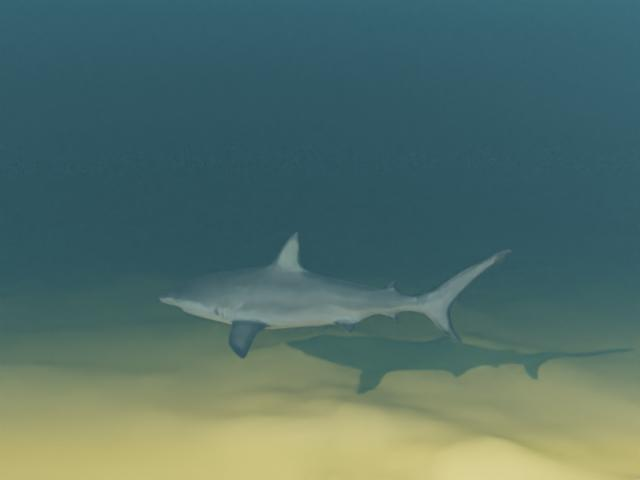Carribean Shark.001: (158, 231, 511, 358)
